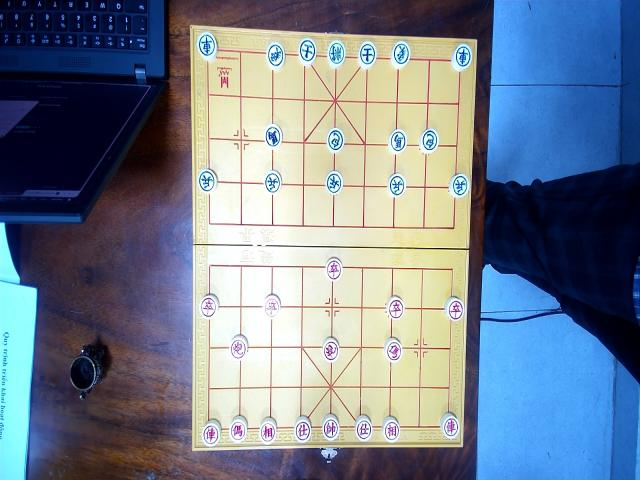piece: (196, 30, 218, 60), (451, 43, 473, 72), (448, 172, 470, 199), (326, 39, 346, 68), (390, 41, 410, 69), (266, 41, 285, 70), (202, 420, 222, 447), (440, 412, 460, 439), (199, 293, 219, 320), (444, 296, 464, 322), (326, 126, 345, 153), (381, 416, 400, 443), (299, 38, 317, 66), (294, 415, 312, 443), (358, 40, 376, 68), (197, 168, 217, 193), (419, 128, 439, 153), (387, 129, 407, 154), (383, 338, 402, 364), (322, 414, 340, 441), (259, 417, 277, 444), (229, 416, 247, 443), (354, 415, 372, 441), (230, 334, 248, 360), (264, 123, 282, 149), (322, 338, 340, 364), (325, 170, 343, 195), (386, 295, 404, 320), (388, 172, 406, 197), (325, 257, 343, 281), (264, 171, 281, 194), (264, 294, 280, 318)
